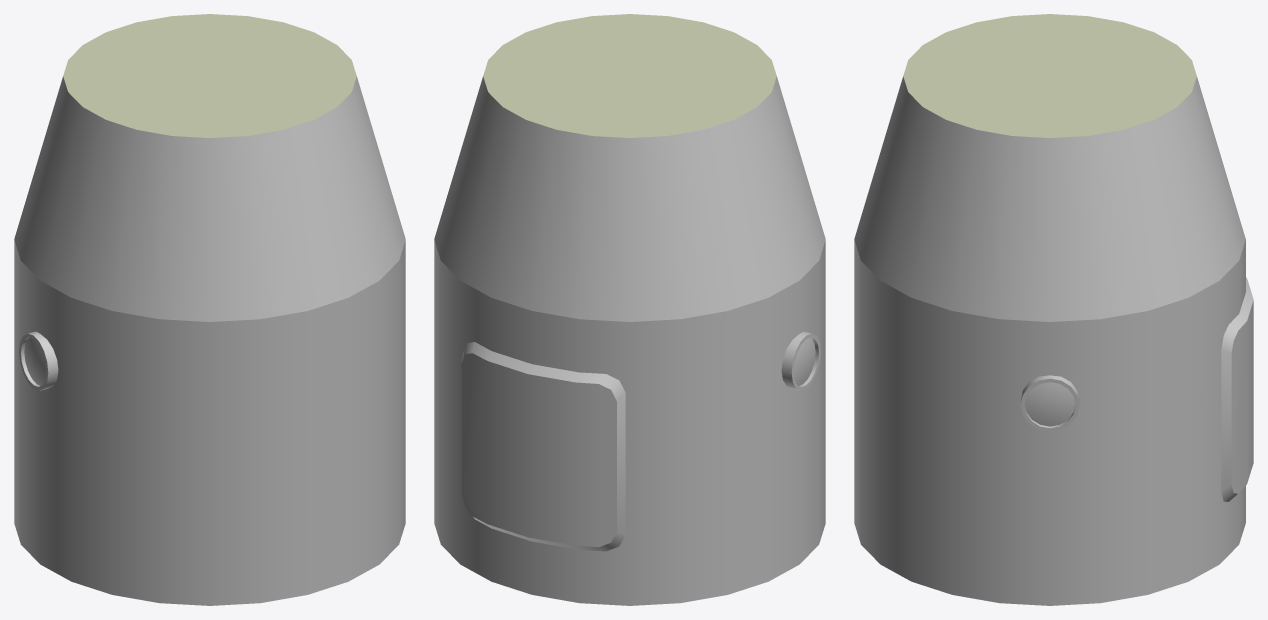
Rendered from Vega_Habitation_1_1_1.obj.
3 views of the same model, side by side, from view 1: azimuth 30°, elevation 25°; view 2: azimuth 150°, elevation 25°; view 3: azimuth 270°, elevation 25° (orthographic).
Parts seen in each view (by area): view 1: Vega_Habitation_1_1_1, Vega_Habitation_1_1_1_Windows; view 2: Vega_Habitation_1_1_1, Vega_Habitation_1_1_1_Windows; view 3: Vega_Habitation_1_1_1, Vega_Habitation_1_1_1_Windows.
Boxes of the visible parts, bbox=[...] form: Vega_Habitation_1_1_1: bbox=[14, 14, 405, 605]; Vega_Habitation_1_1_1_Windows: bbox=[24, 337, 46, 385]; Vega_Habitation_1_1_1: bbox=[434, 14, 825, 605]; Vega_Habitation_1_1_1_Windows: bbox=[793, 337, 815, 385]; Vega_Habitation_1_1_1: bbox=[854, 14, 1253, 605]; Vega_Habitation_1_1_1_Windows: bbox=[1025, 382, 1075, 426].
Bounding box in the file's own units: 1.3 × 1.58 × 1.27.
